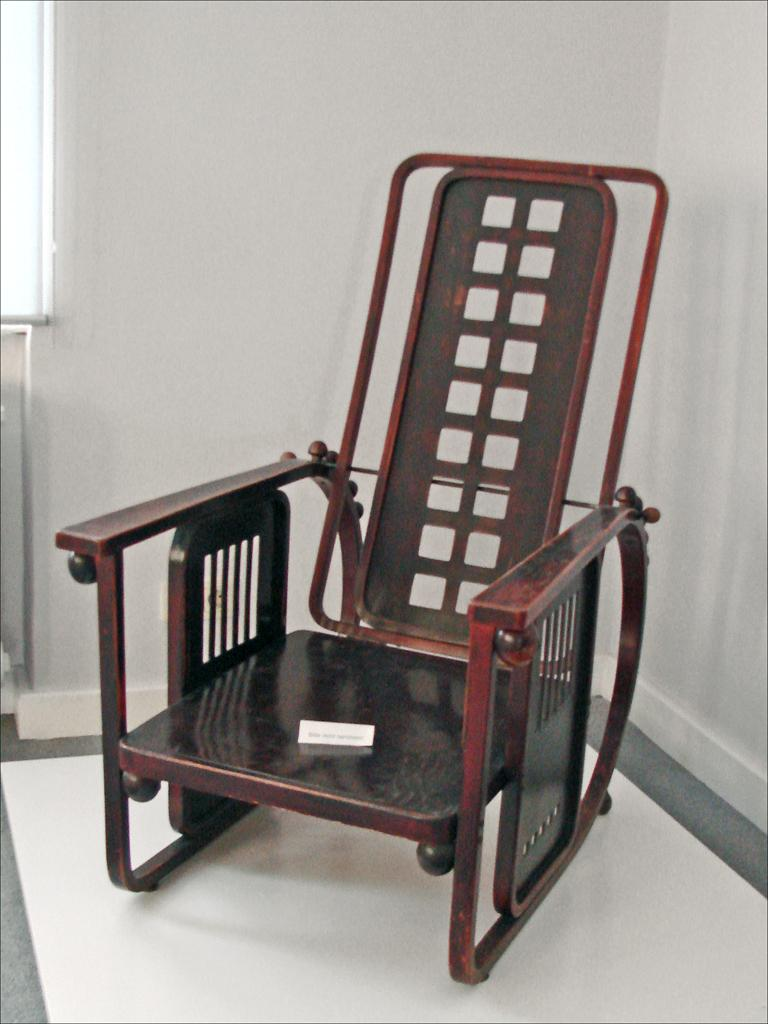Chair: (49, 145, 662, 980)
